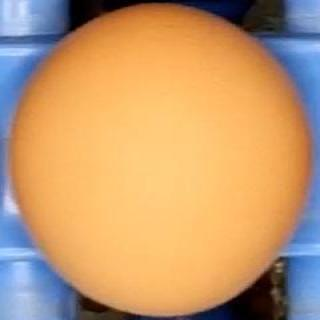Telur: (2, 1, 313, 318)
